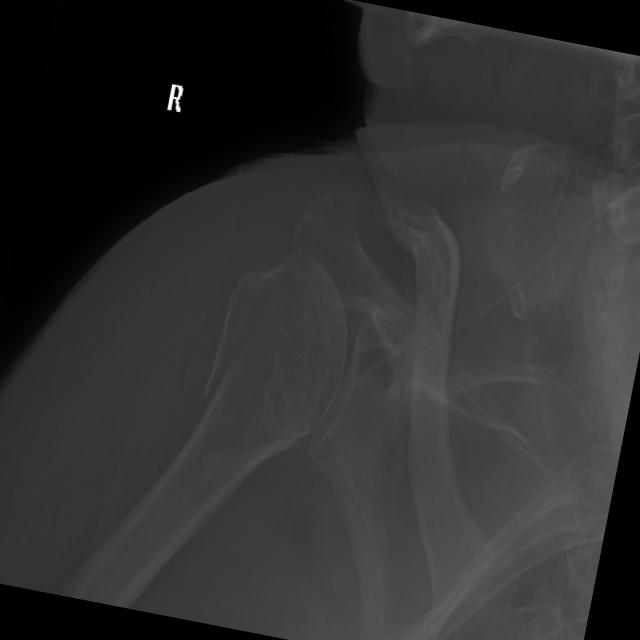shoulder fracture: (176, 285, 276, 428)
